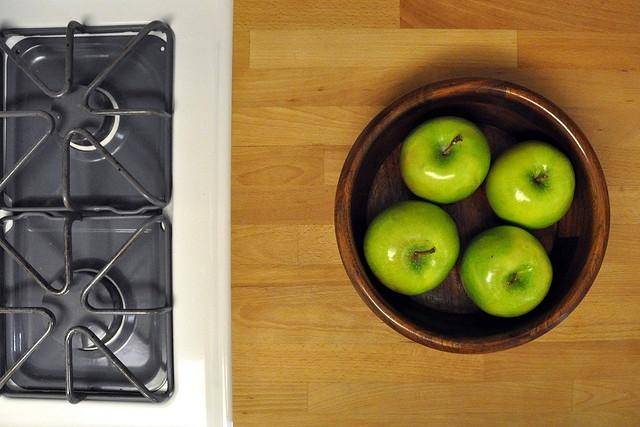apple: (363, 201, 460, 296), (459, 224, 554, 318), (400, 116, 490, 204), (485, 141, 576, 228)
